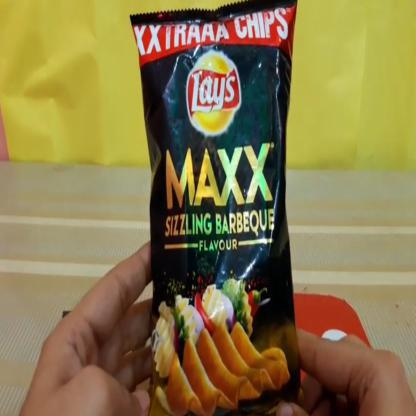maxx_sizzling_barbeque: (132, 13, 301, 415)
